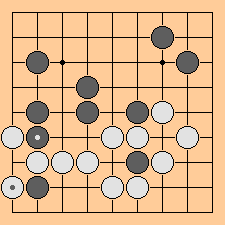black: (25, 50, 47, 72), (25, 101, 47, 123), (25, 126, 47, 148), (25, 176, 47, 198), (75, 75, 97, 97), (75, 101, 97, 123), (126, 101, 148, 123), (126, 151, 148, 173), (151, 25, 173, 47), (176, 50, 198, 72)
white: (24, 150, 48, 174), (49, 150, 73, 174), (74, 150, 98, 174), (100, 125, 124, 149), (100, 175, 124, 199), (125, 125, 149, 149), (125, 175, 149, 199), (150, 100, 174, 124), (150, 150, 174, 174), (175, 125, 199, 149), (1, 125, 23, 149), (1, 175, 23, 199)
